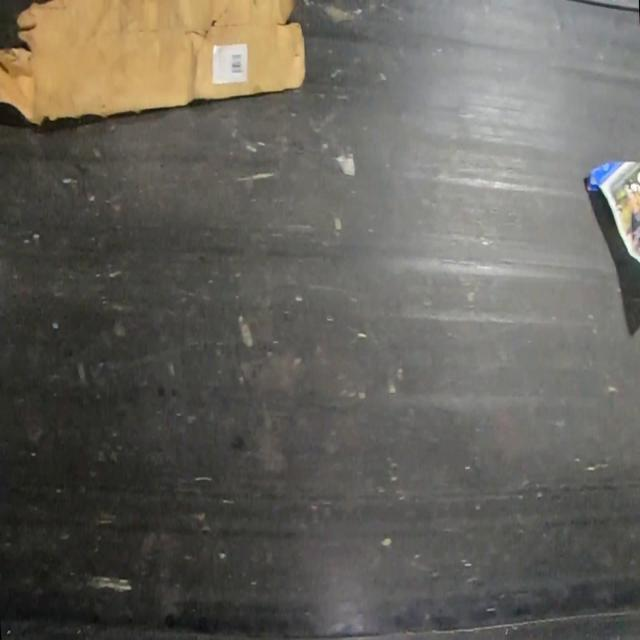cardboard: (1, 0, 308, 124)
